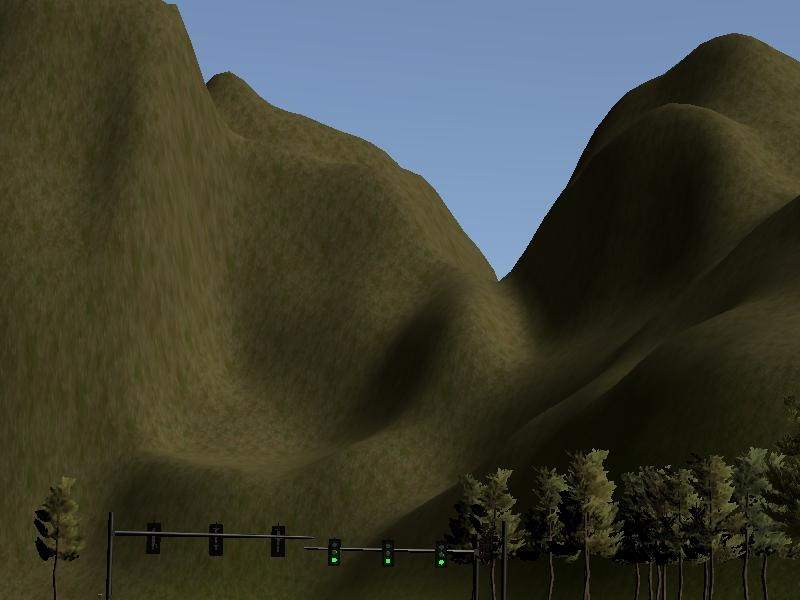green: (430, 538, 451, 571), (327, 535, 339, 568), (380, 538, 393, 568)
